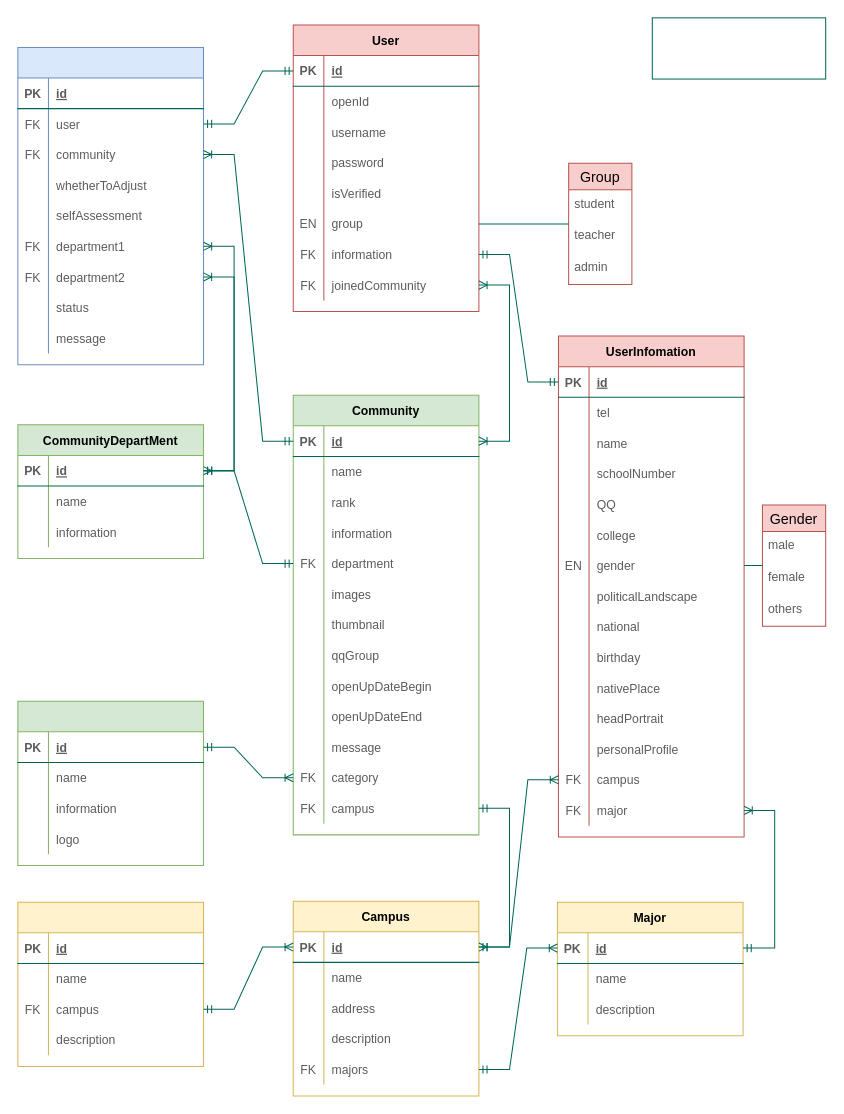
Image size: 844x1114. Some labels were removed from this diagram. The shapes that lost their labels are listed below. From the top down, each one's box as (x1, y1, x2, y2) in pixels, then its label:
(651, 17, 826, 79): Community Manager System Data Model 2021/11/16 15:01 @W-Mai
(17, 46, 203, 365): RegistrationForm
(17, 700, 203, 865): CommunityCategory
(17, 901, 203, 1066): University
